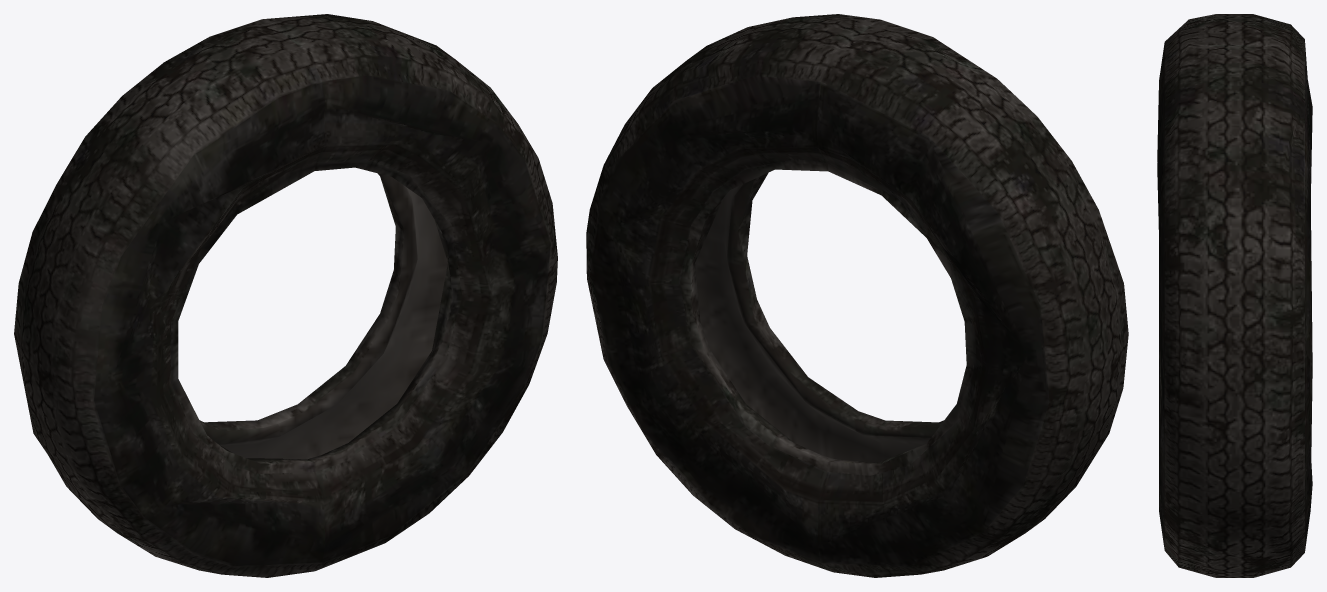
The model's file is tyre.glb.
3 renders of one model, left to right at view 1: azimuth 30°, elevation 25°; view 2: azimuth 150°, elevation 25°; view 3: azimuth 270°, elevation 25°, orthographic. The views are drawn at different scales.
Visible parts, largest first — view 1: old_tyre; view 2: old_tyre; view 3: old_tyre.
Boxes of the visible parts, x1=… form: old_tyre: x1=14, y1=14, x2=557, y2=577; old_tyre: x1=586, y1=14, x2=1128, y2=577; old_tyre: x1=1157, y1=14, x2=1312, y2=577.
Bounding box in the file's own units: 0.6 × 0.5985 × 0.165.
1 material, 1 textured.
